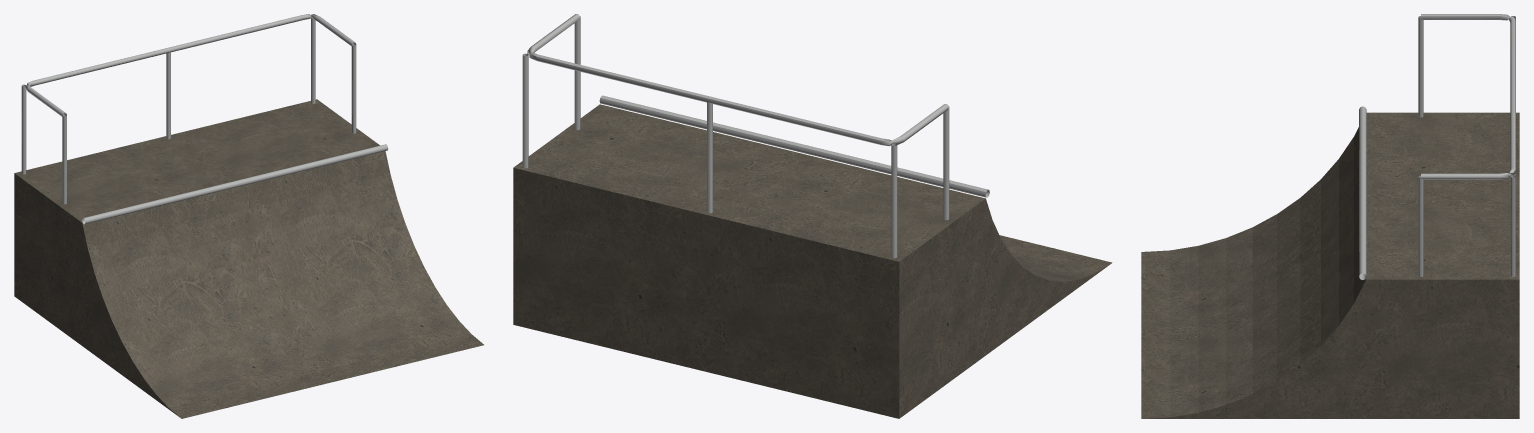
Rendered from skate-ramp.glb.
3 renders of one model, left to right at view 1: azimuth 30°, elevation 25°; view 2: azimuth 150°, elevation 25°; view 3: azimuth 270°, elevation 25°, orthographic. The views are drawn at different scales.
Visible parts, largest first — view 1: skate-ramp; view 2: skate-ramp; view 3: skate-ramp.
Part boxes in pixels (box(x1,y1,x2,y2)): skate-ramp: box(14, 14, 483, 418); skate-ramp: box(513, 14, 1112, 418); skate-ramp: box(1141, 14, 1519, 418).
Size of the model in its own units: 3.6 by 2.43 by 3.45.
Materials: 2 (1 with a texture image).
